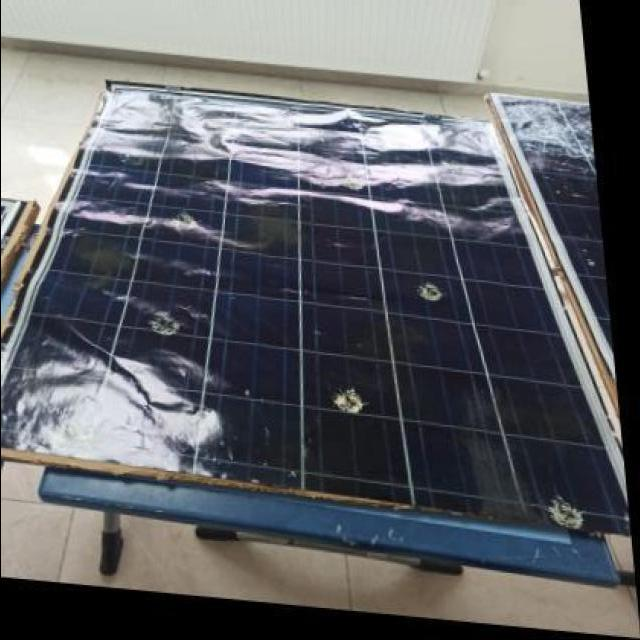soiled: (8, 204, 626, 534)
